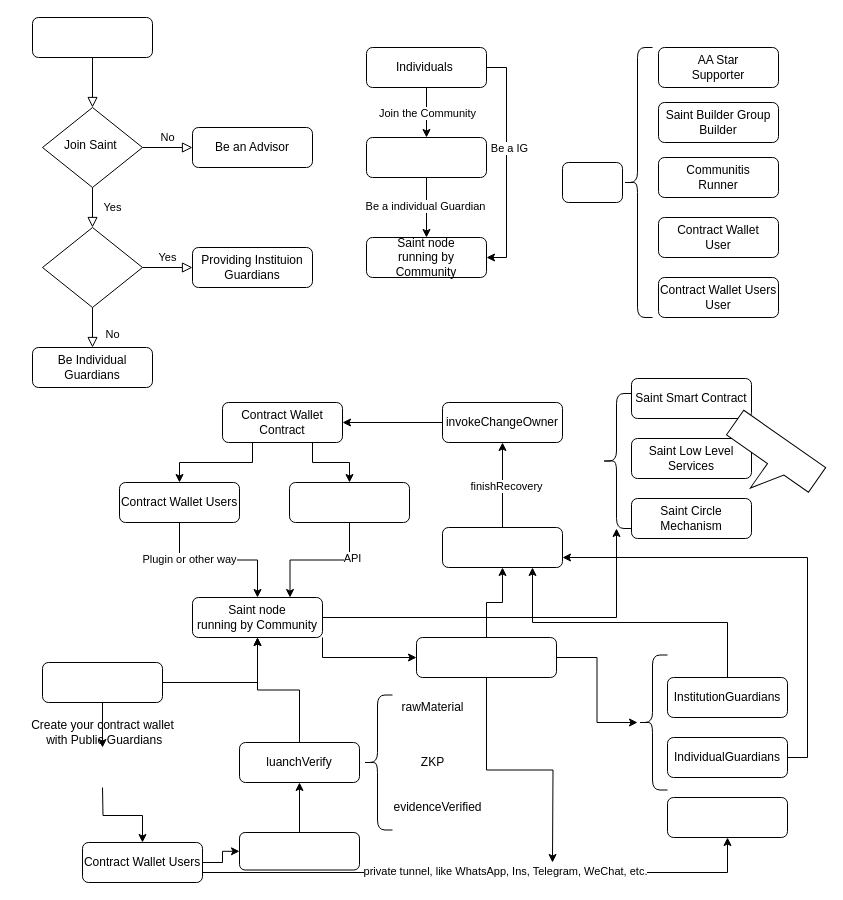
This 843x900 diagram has some shape labels left out. The shapes that lost their labels are listed below. From the top down, each one's box as (x1, y1, x2, y2) in pixels, then its label:
(32, 16, 152, 58): Communities
(366, 136, 486, 178): Community
(562, 162, 622, 202): Saint
(42, 226, 142, 308): Run a Saint node
(708, 409, 826, 517): on-chain-contract
(288, 482, 410, 522): Contract Wallet Builders
(442, 526, 562, 568): signatureCollections
(416, 636, 556, 678): distributeRecoverRequest
(42, 662, 162, 702): getRandomGuardians
(666, 796, 788, 838): privateGuardians
(238, 832, 360, 870): initRecovery
